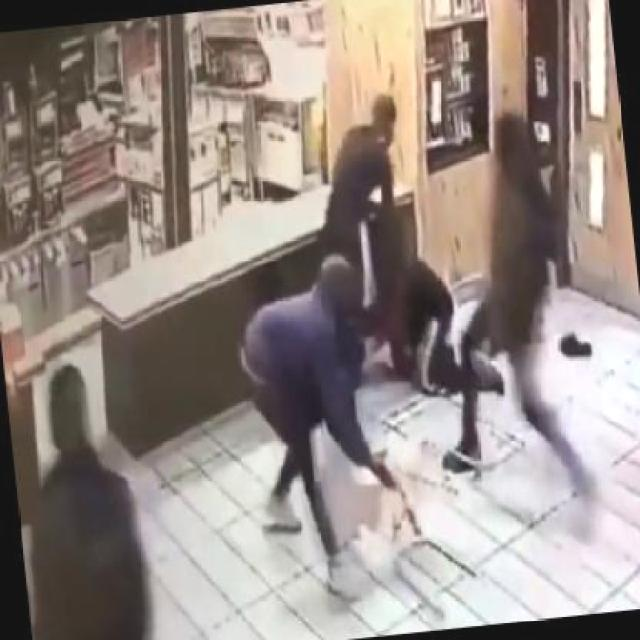fight: (305, 91, 458, 354)
